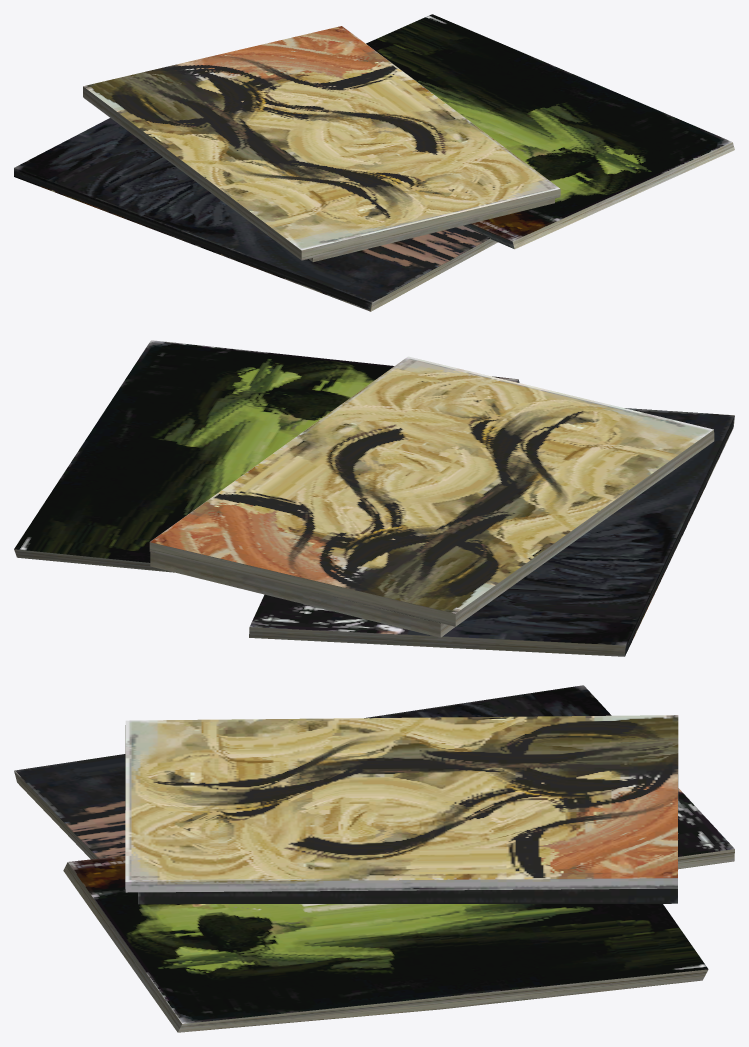
File: magazine_pile04_wau.dae
3 renders of one model, top to bottom at view 1: azimuth 30°, elevation 25°; view 2: azimuth 150°, elevation 25°; view 3: azimuth 270°, elevation 25°, orthographic. The views are drawn at different scales.
Parts seen in each view (by area): view 1: magazine_pile04; view 2: magazine_pile04; view 3: magazine_pile04.
Boxes of the visible parts, x1,y1,x2,y2 form: magazine_pile04: (14, 14, 734, 311); magazine_pile04: (14, 340, 734, 656); magazine_pile04: (14, 685, 734, 1032).
Bounding box in the file's own units: 31.19 × 2.2 × 27.49.
1 material, 1 textured.
